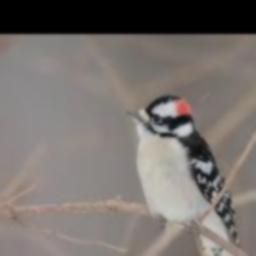Woodpecker: (127, 95, 240, 256)
